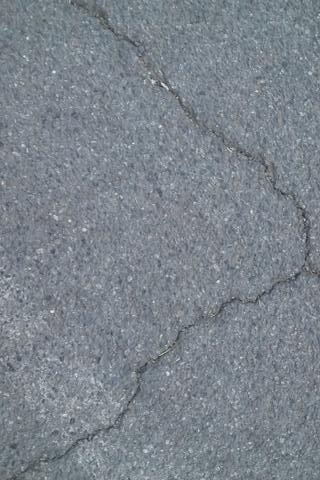A: (24, 1, 313, 480)
